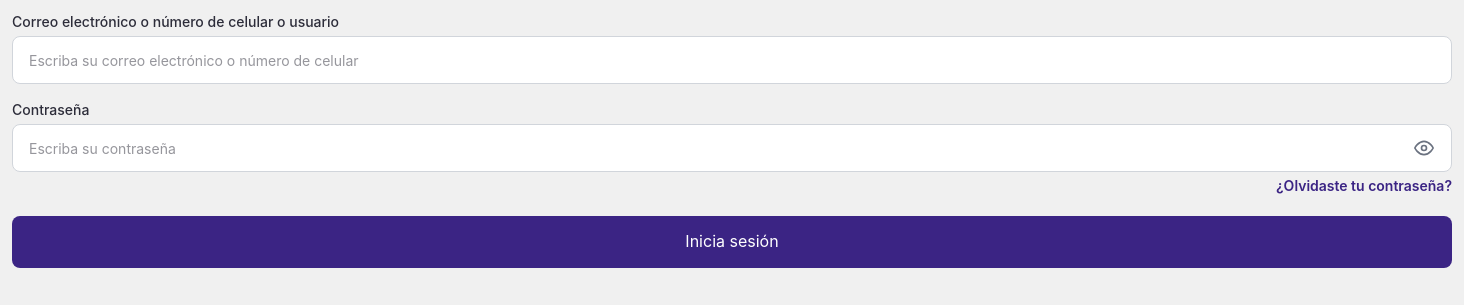
Test case: FormularioLogin › valida contraseña obligatoria con mensaje Zod
In the field labelled "Correo electrónico o número de celular o usuario": [732, 60] box top-left (12, 36), bottom-right (1452, 84), type "usuario"
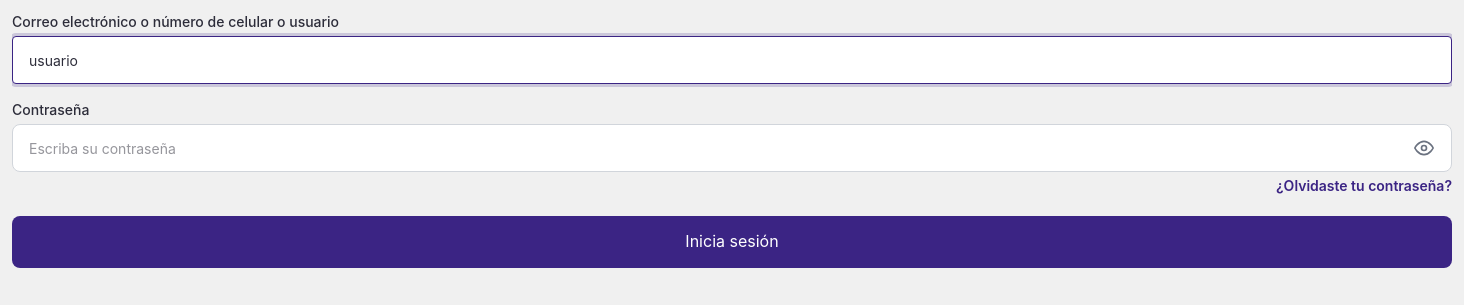
Click the button "Inicia sesión": [732, 242] box top-left (12, 216), bottom-right (1452, 268)
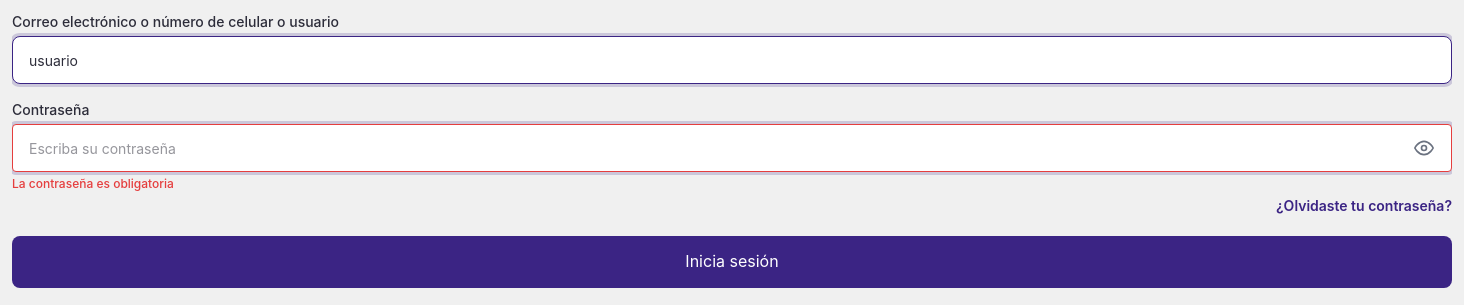
Result: the text "La contraseña es obligatoria" is shown at top-left (12, 176), bottom-right (174, 191)
